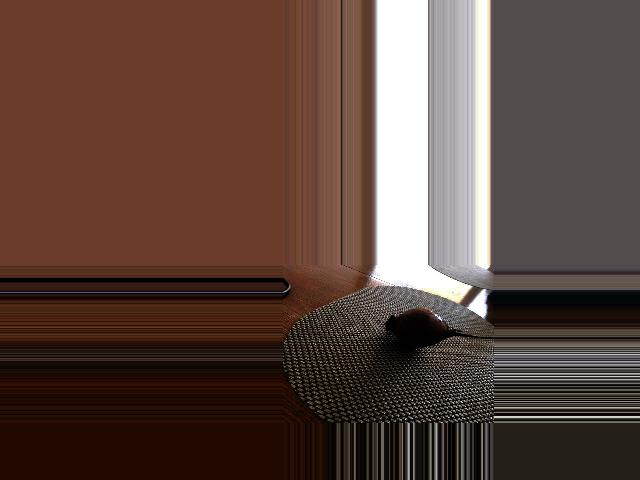beet: (385, 308, 493, 347)
